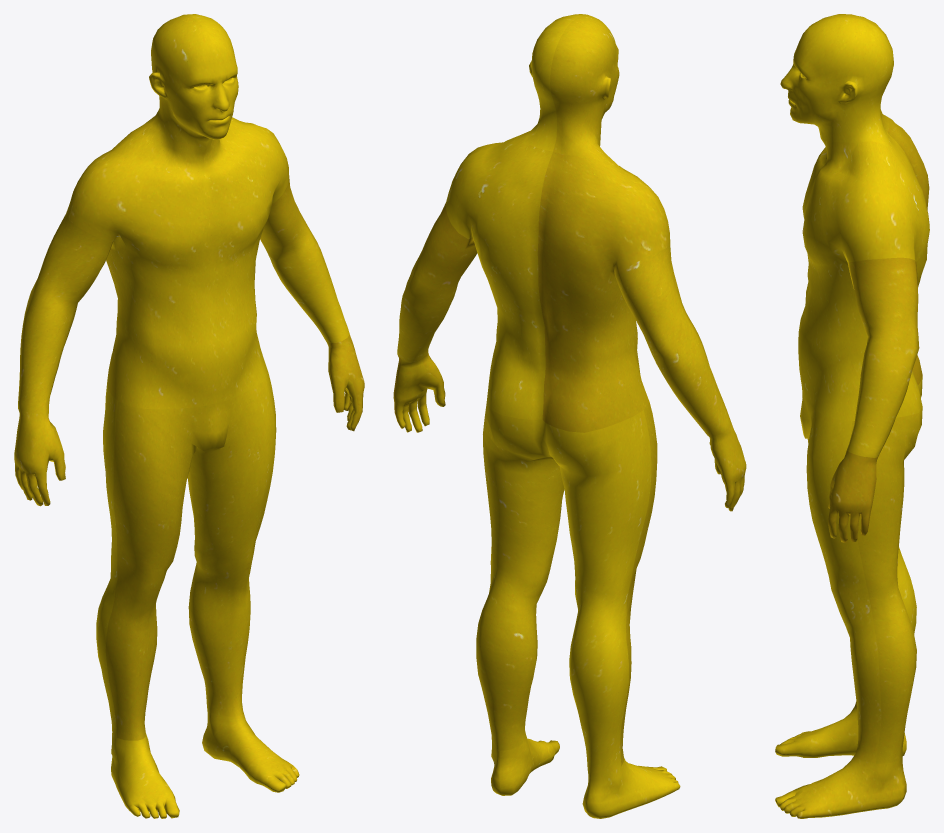
The model's file is character-3.obj.
The picture shows the model from 3 angles, left to right: view 1: azimuth 30°, elevation 25°; view 2: azimuth 150°, elevation 25°; view 3: azimuth 270°, elevation 25°; orthographic projection.
Parts seen in each view (by area): view 1: Realistic_White_Male_Low_Poly:Realistic_White_Male_Low_Poly; view 2: Realistic_White_Male_Low_Poly:Realistic_White_Male_Low_Poly; view 3: Realistic_White_Male_Low_Poly:Realistic_White_Male_Low_Poly.
Boxes of the visible parts, bbox=[...] form: Realistic_White_Male_Low_Poly:Realistic_White_Male_Low_Poly: bbox=[14, 14, 364, 818]; Realistic_White_Male_Low_Poly:Realistic_White_Male_Low_Poly: bbox=[393, 14, 746, 818]; Realistic_White_Male_Low_Poly:Realistic_White_Male_Low_Poly: bbox=[775, 14, 929, 818].
Size of the model in its own units: 33.63 by 72.02 by 13.22.
1 material, 1 textured.
